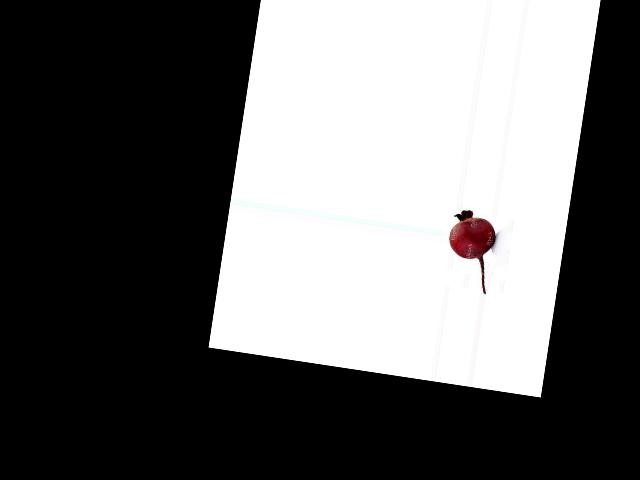beet: (442, 207, 499, 293)
